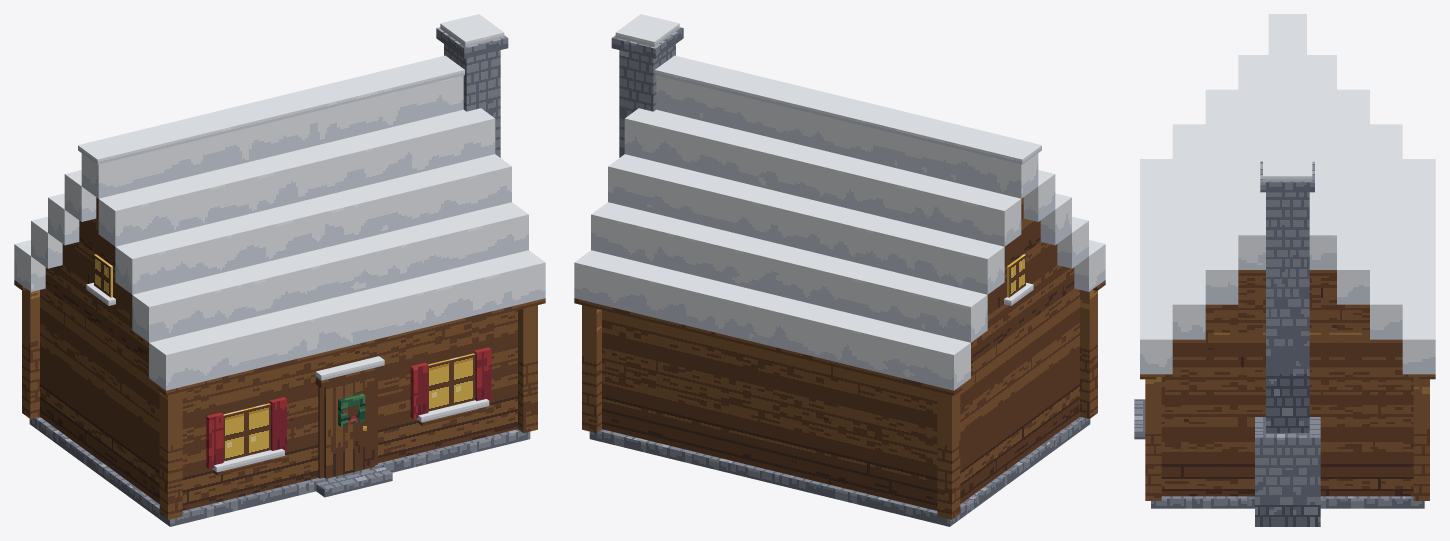
The model's file is casa.glb.
3 views of the same model, side by side, from view 1: azimuth 30°, elevation 25°; view 2: azimuth 150°, elevation 25°; view 3: azimuth 270°, elevation 25° (orthographic). The views are drawn at different scales.
Visible parts, largest first — view 1: root, door_bone, wreath_bone; view 2: root; view 3: root.
Boxes of the visible parts, x1,y1,x2,y2 form: root: (14, 14, 545, 526); door_bone: (324, 375, 374, 478); wreath_bone: (338, 393, 365, 426); root: (574, 14, 1105, 526); root: (1134, 14, 1435, 526).
Size of the model in its own units: 10.56 by 8.75 by 6.88.
Materials: 1 (1 with a texture image).
